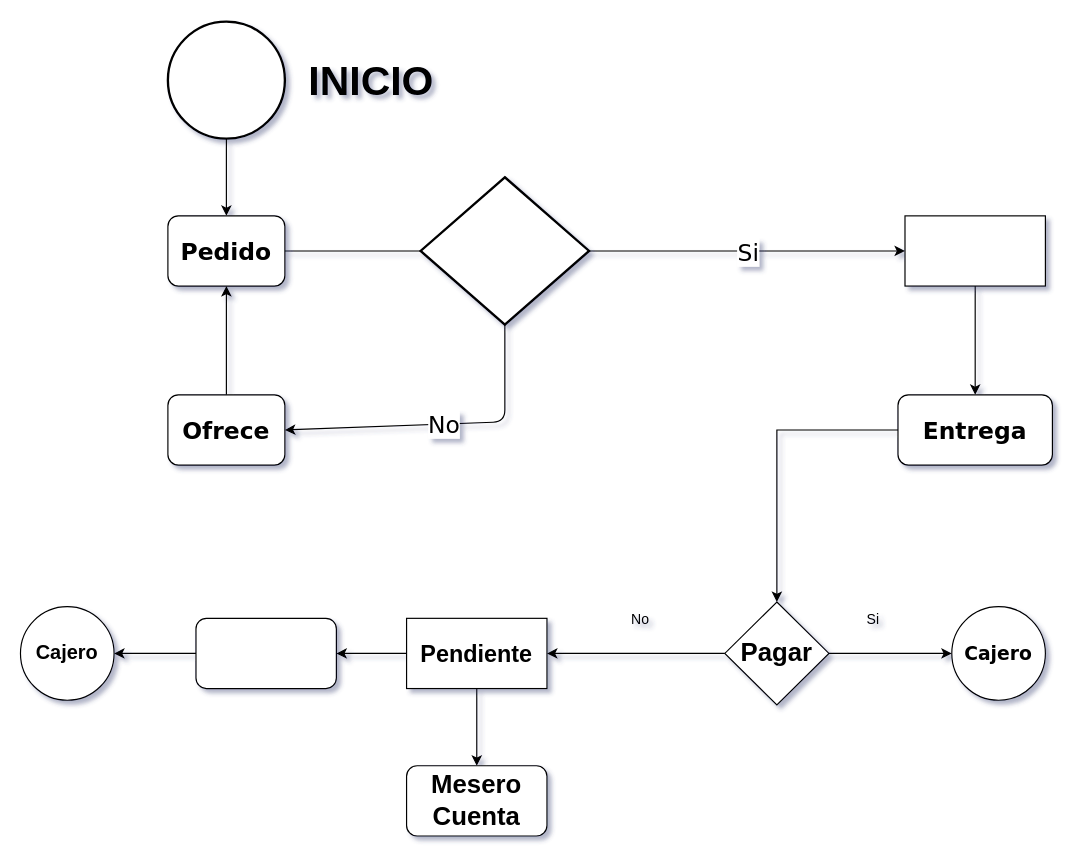
Image size: 1080x863. Some labels were removed from this diagram. Each missing label, with the box of its shape:
Inventario: (419, 176, 590, 325)
Mesero,Cliente: (166, 20, 285, 139)
Preparar: (904, 215, 1045, 286)
Registro Sistema: (195, 617, 336, 689)
